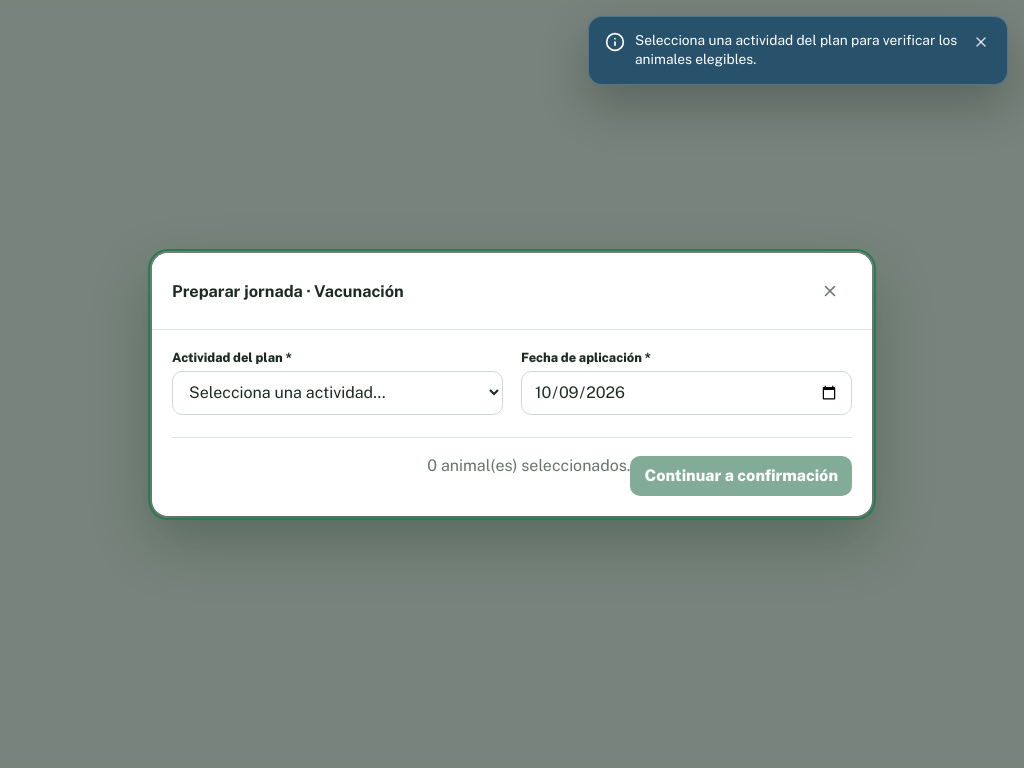
Test case: JornadaPrepararModal › criterios aplicados automáticamente › con una sola categoría la muestra en singular
Select "Vacunación" in the dropdown labelled "Actividad del plan *" at (338, 392), box [173, 372, 502, 413]
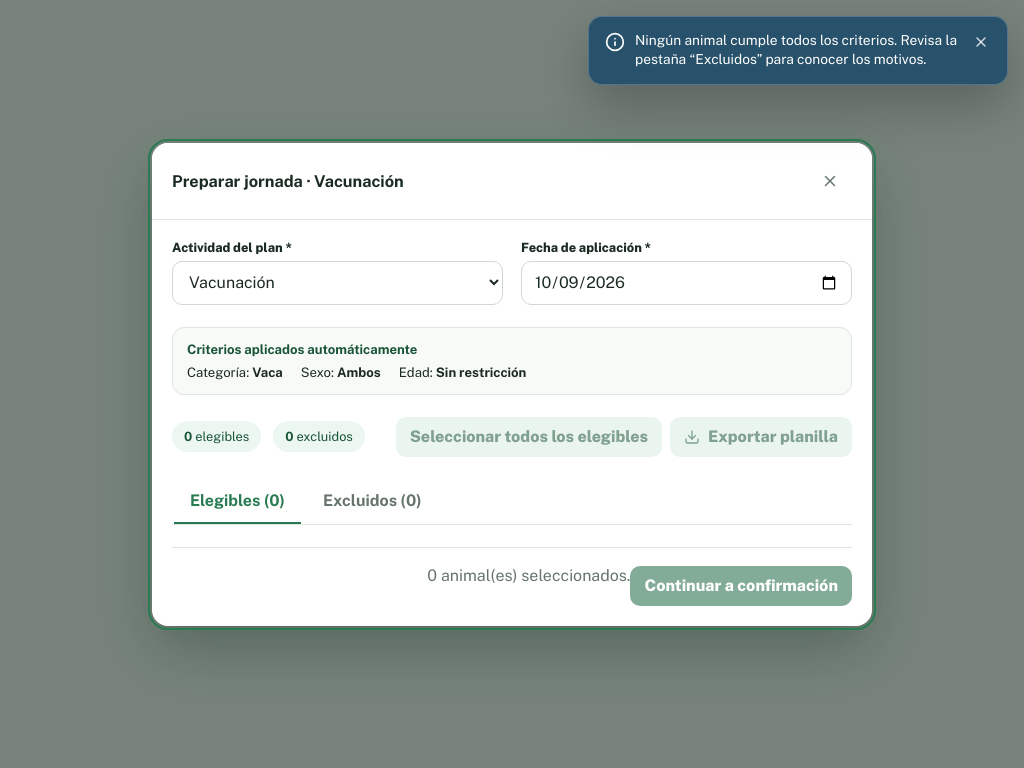
Expected: the element named "Criterios de elegibilidad" does not show "Categorías", [172, 326, 852, 394]
Expected: the element named "Criterios de elegibilidad" shows "Categoría: Vaca", [172, 326, 852, 394]
